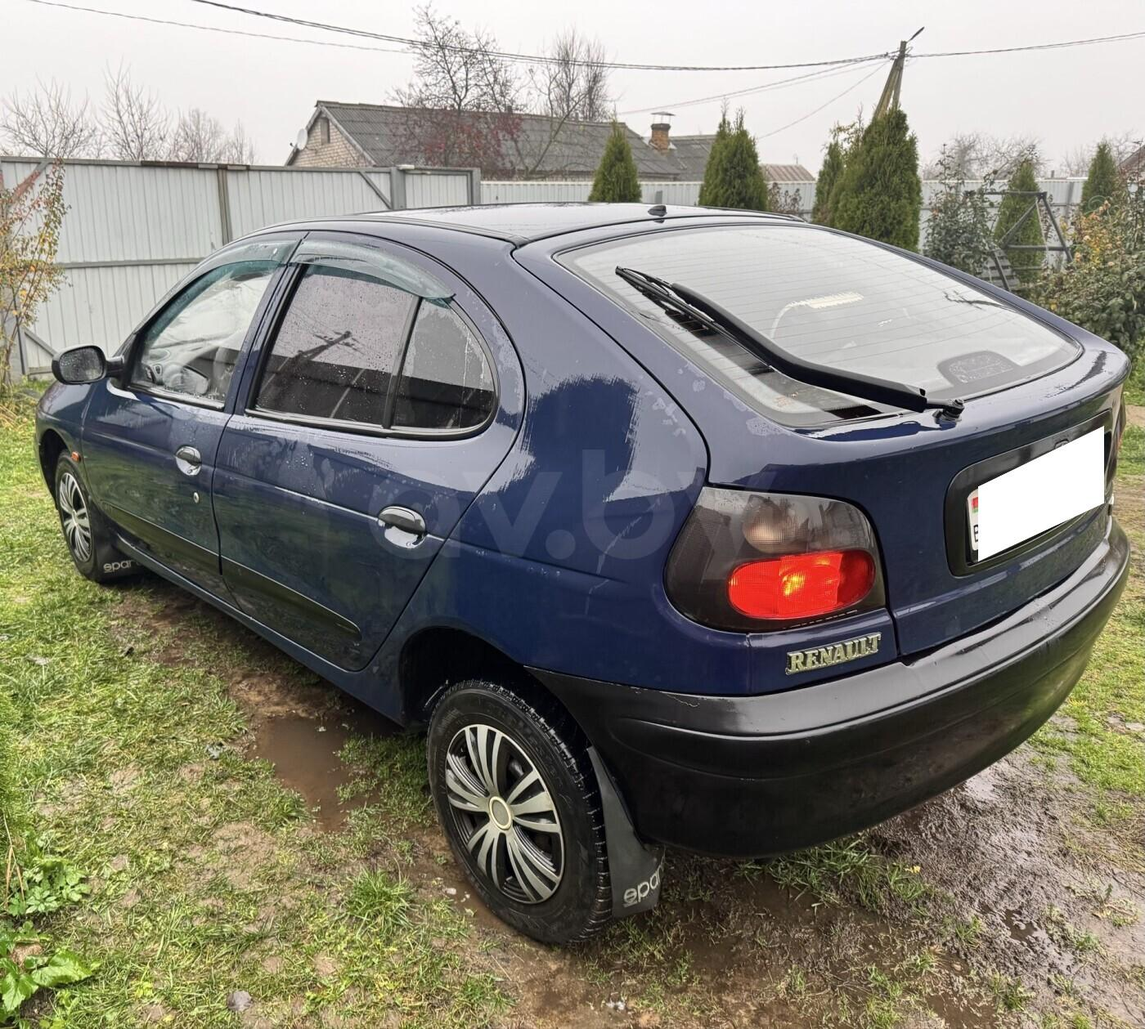Megane_1995-1999: (26, 206, 1130, 934)
